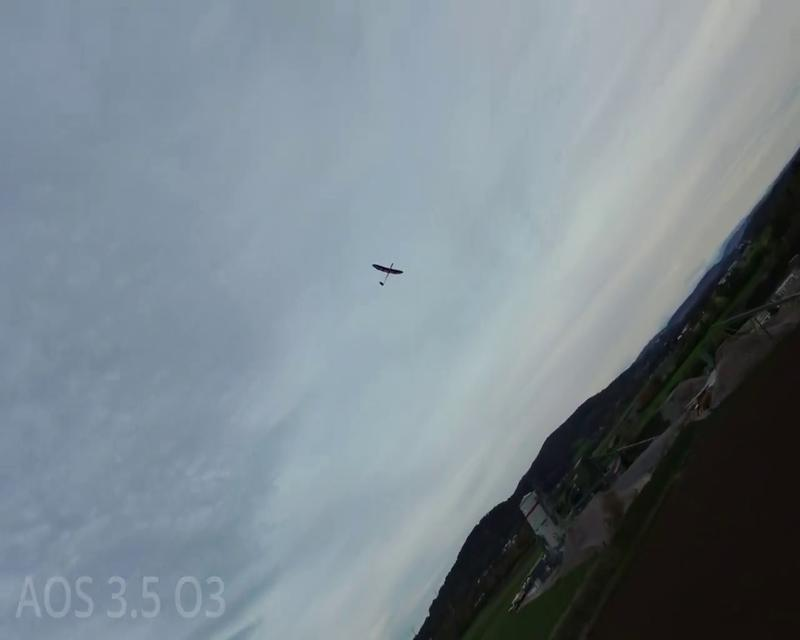UAV: (371, 262, 403, 286)
